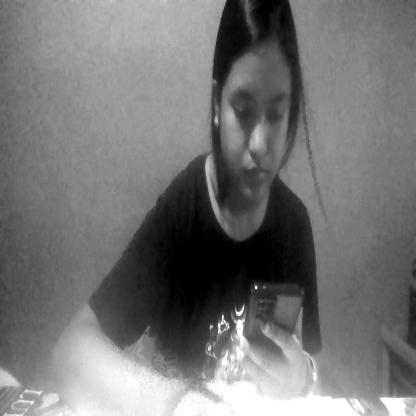Distracted: (215, 24, 292, 198)
